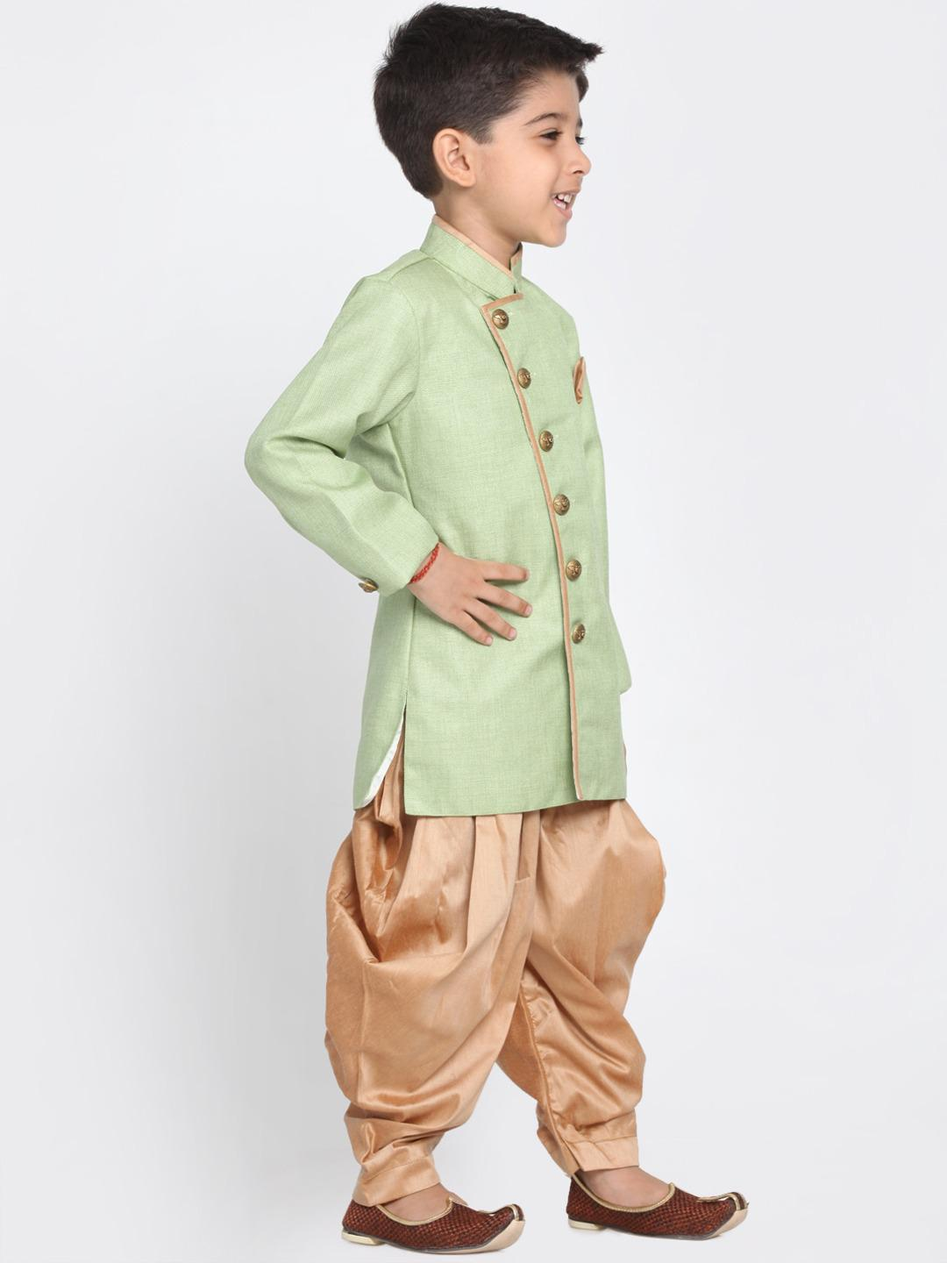Plain Sherwani: (240, 220, 637, 825)
